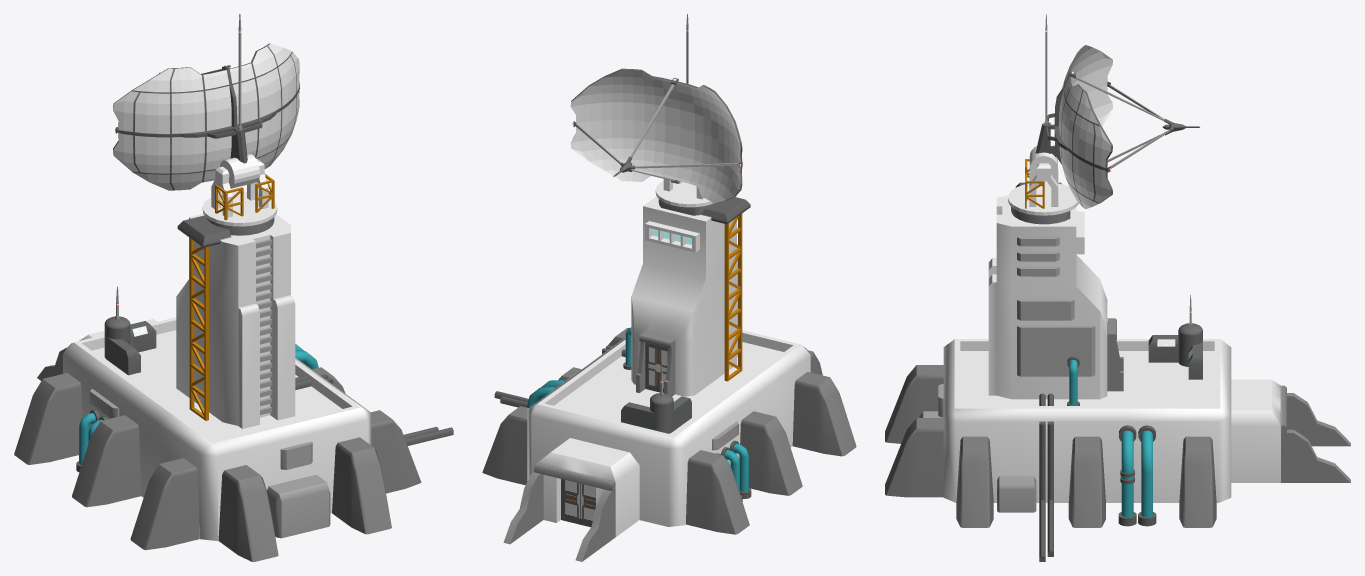
Rendered from low_poly_radar.glb.
3 views of the same model, side by side, from view 1: azimuth 30°, elevation 25°; view 2: azimuth 150°, elevation 25°; view 3: azimuth 270°, elevation 25° (orthographic). The views are drawn at different scales.
Visible parts, largest first — view 1: Radar_building_, Radar_)))_radar, Engine_=__radar; view 2: Radar_building_, Radar_)))_radar, Engine_=__radar; view 3: Radar_building_, Radar_)))_radar, Engine_=__radar.
Boxes of the visible parts, bbox=[...] form: Radar_building_: bbox=[14, 214, 453, 561]; Radar_)))_radar: bbox=[113, 14, 299, 190]; Engine_=__radar: bbox=[202, 158, 277, 226]; Radar_building_: bbox=[482, 195, 856, 561]; Radar_)))_radar: bbox=[570, 14, 742, 203]; Engine_=__radar: bbox=[655, 179, 713, 207]; Radar_building_: bbox=[885, 182, 1350, 561]; Radar_)))_radar: bbox=[1029, 14, 1200, 209]; Engine_=__radar: bbox=[1008, 159, 1078, 215].
Bounding box in the file's own units: 4.09 × 5.28 × 4.92.
Materials: 5 (4 with a texture image).
